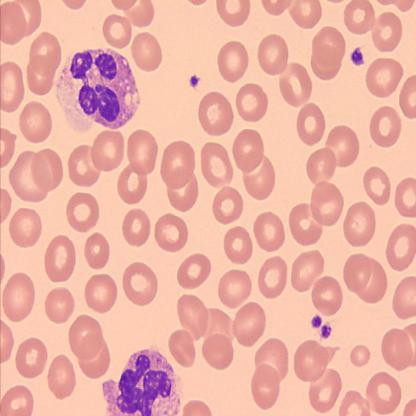Segmented neutrophil: (53, 46, 142, 133)
